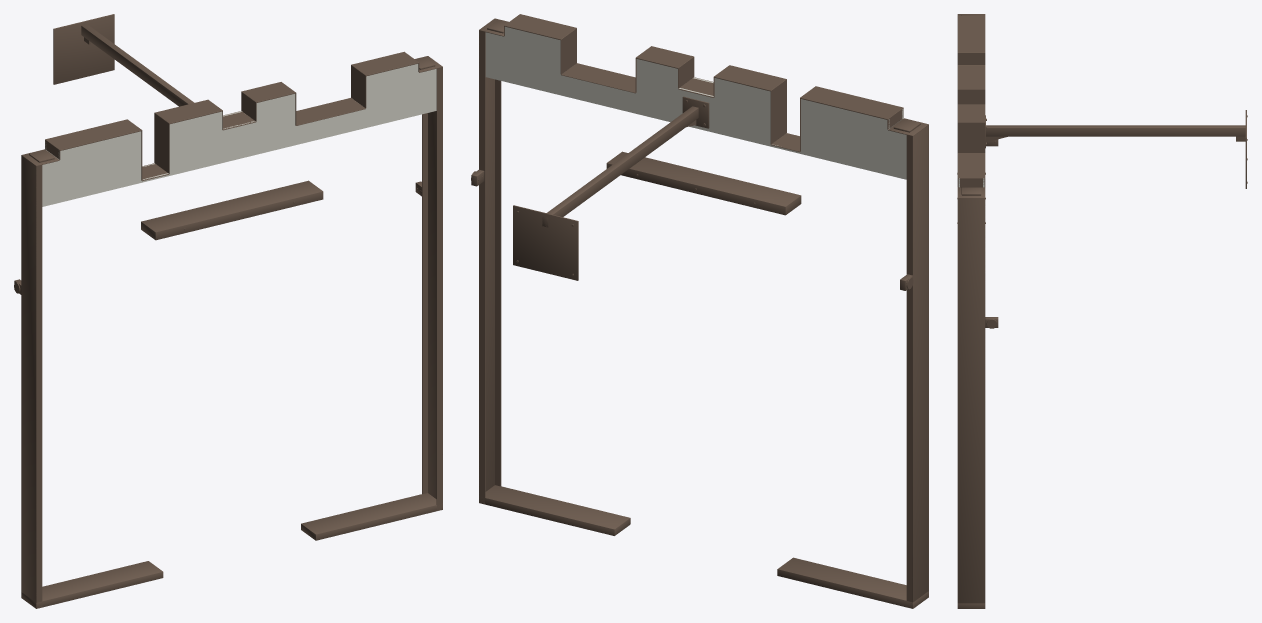
The model's file is Kit_RunRecede_Head.fbx.
3 views of the same model, side by side, from view 1: azimuth 30°, elevation 25°; view 2: azimuth 150°, elevation 25°; view 3: azimuth 270°, elevation 25° (orthographic). The views are drawn at different scales.
Visible parts, largest first — view 1: Kit_RunRecede_Head_LOD0; view 2: Kit_RunRecede_Head_LOD0; view 3: Kit_RunRecede_Head_LOD0.
Boxes of the visible parts, <box> form: Kit_RunRecede_Head_LOD0: <box>14,14,442,608</box>; Kit_RunRecede_Head_LOD0: <box>471,14,928,608</box>; Kit_RunRecede_Head_LOD0: <box>957,14,1247,608</box>.
Size of what is drawn, in the model's own units: 2.68 by 2.84 by 1.78.
